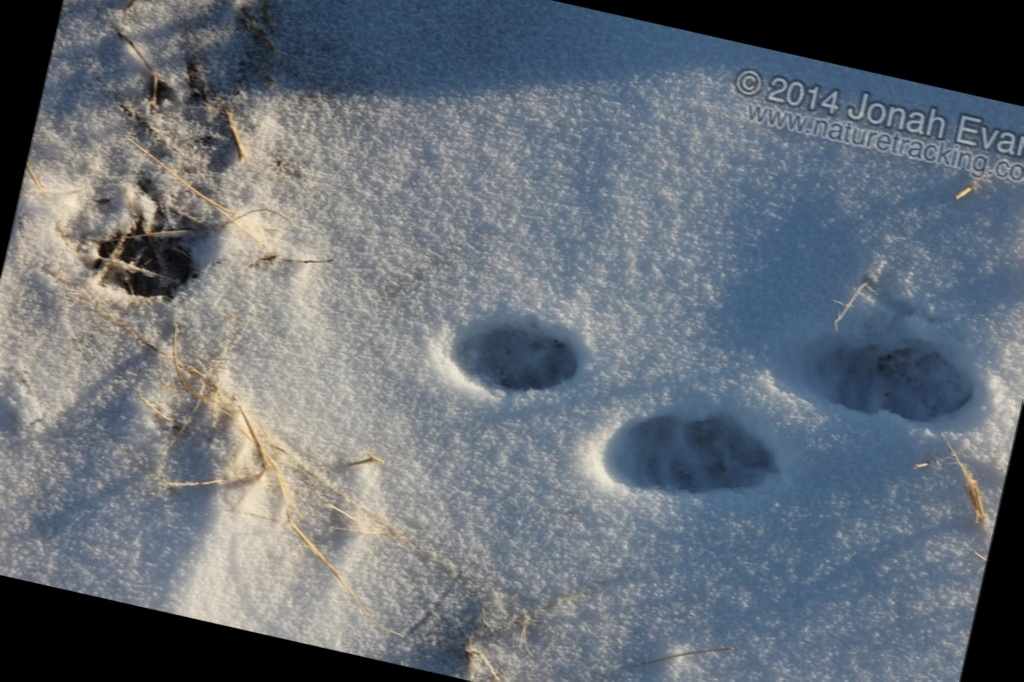rabbit: (579, 390, 802, 540)
